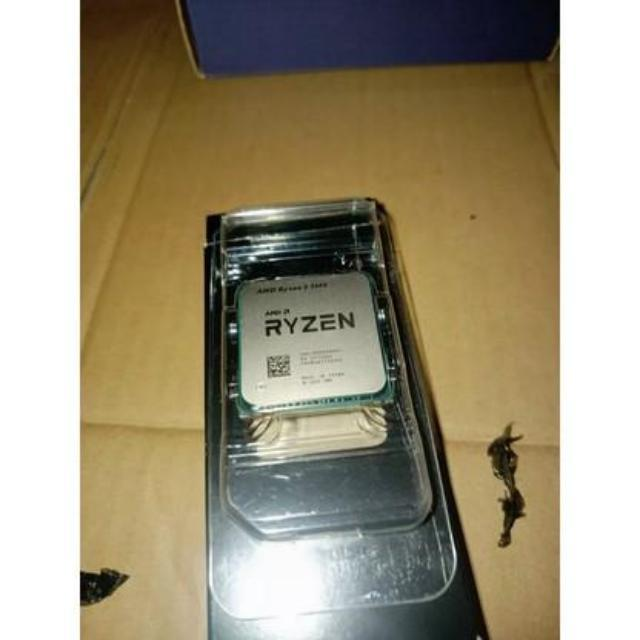CPU: (240, 270, 388, 404)
